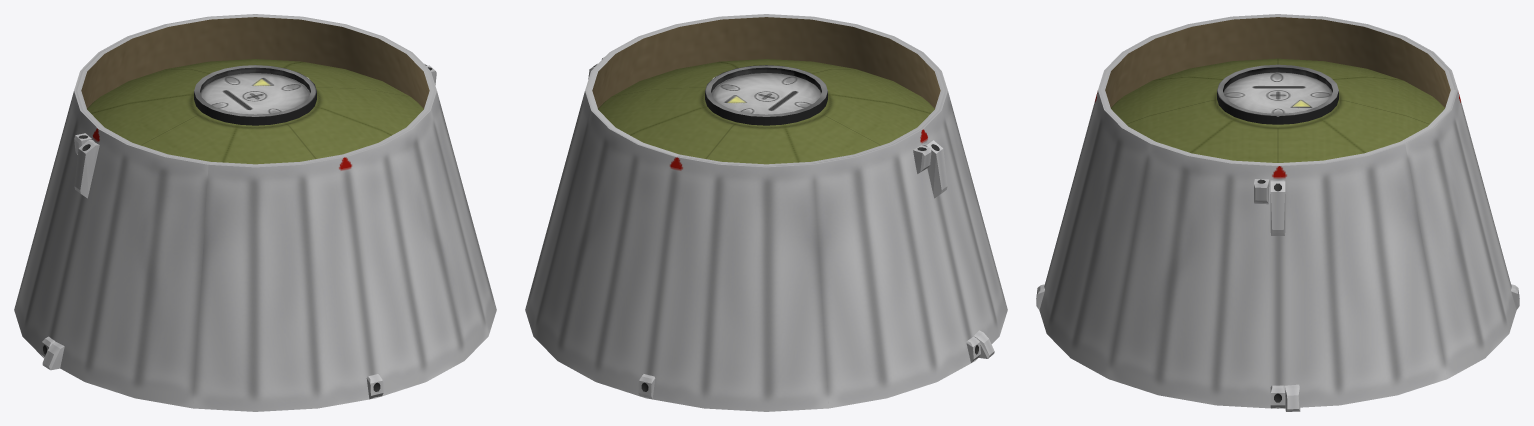
3 renders of one model, left to right at view 1: azimuth 30°, elevation 25°; view 2: azimuth 150°, elevation 25°; view 3: azimuth 270°, elevation 25°, orthographic.
Visible parts, largest first — view 1: Adapter, TankCap, Cylinder008, Box130, Box135; view 2: Adapter, TankCap, Cylinder008, Box130; view 3: Adapter, TankCap, Cylinder008, Box131.
Part boxes in pixels (<box>): Adapter: <box>14,14,496,411</box>; TankCap: <box>87,59,423,164</box>; Cylinder008: <box>194,65,316,125</box>; Box130: <box>74,140,99,198</box>; Box135: <box>42,342,64,370</box>; Adapter: <box>525,14,1007,411</box>; TankCap: <box>598,59,934,164</box>; Cylinder008: <box>705,65,827,125</box>; Box130: <box>922,140,947,198</box>; Adapter: <box>1039,14,1516,408</box>; TankCap: <box>1111,58,1444,162</box>; Cylinder008: <box>1217,64,1338,124</box>; Box131: <box>1270,180,1285,235</box>.
Size of what is drawn, in the model's own units: 2.6 by 1.25 by 2.52.
Materials: 1 (1 with a texture image).
